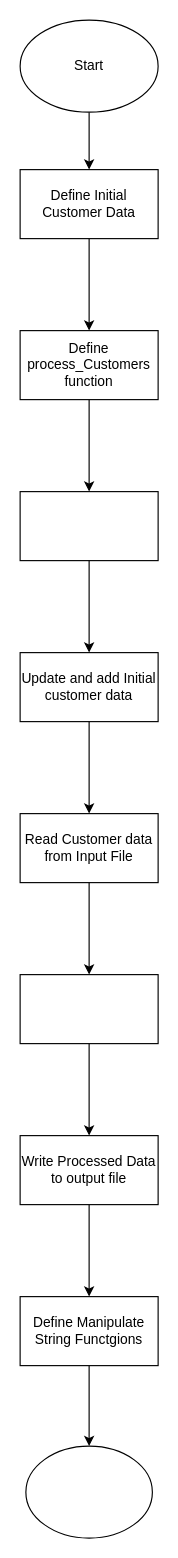
Image size: 178x1558. Some labels were removed from this diagram. Here are the shapes that lost their labels. From the top down, the centre of each, then its label:
At pixel 88 525: "Process Initial Customer data".
At pixel 88 1008: "Process customer data".
At pixel 88 1491: "End".
